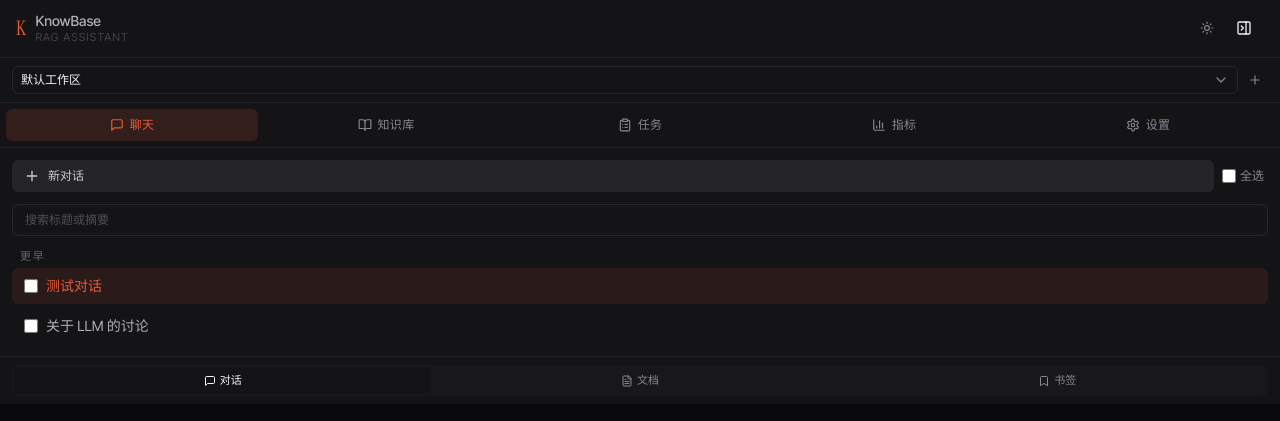
Test: Sidebar interactions › checking a conversation checkbox enables batch delete button
Step 1. Click the 2nd checkbox → {"x": 31, "y": 286}, box 24,279 -> 38,293
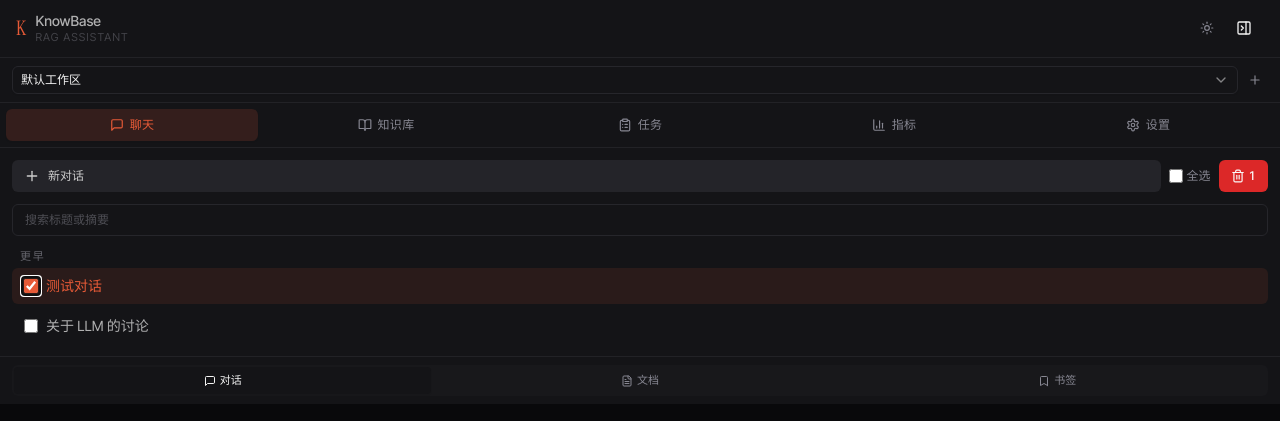
Result: the button "1" is shown at 1219,160 -> 1268,192
